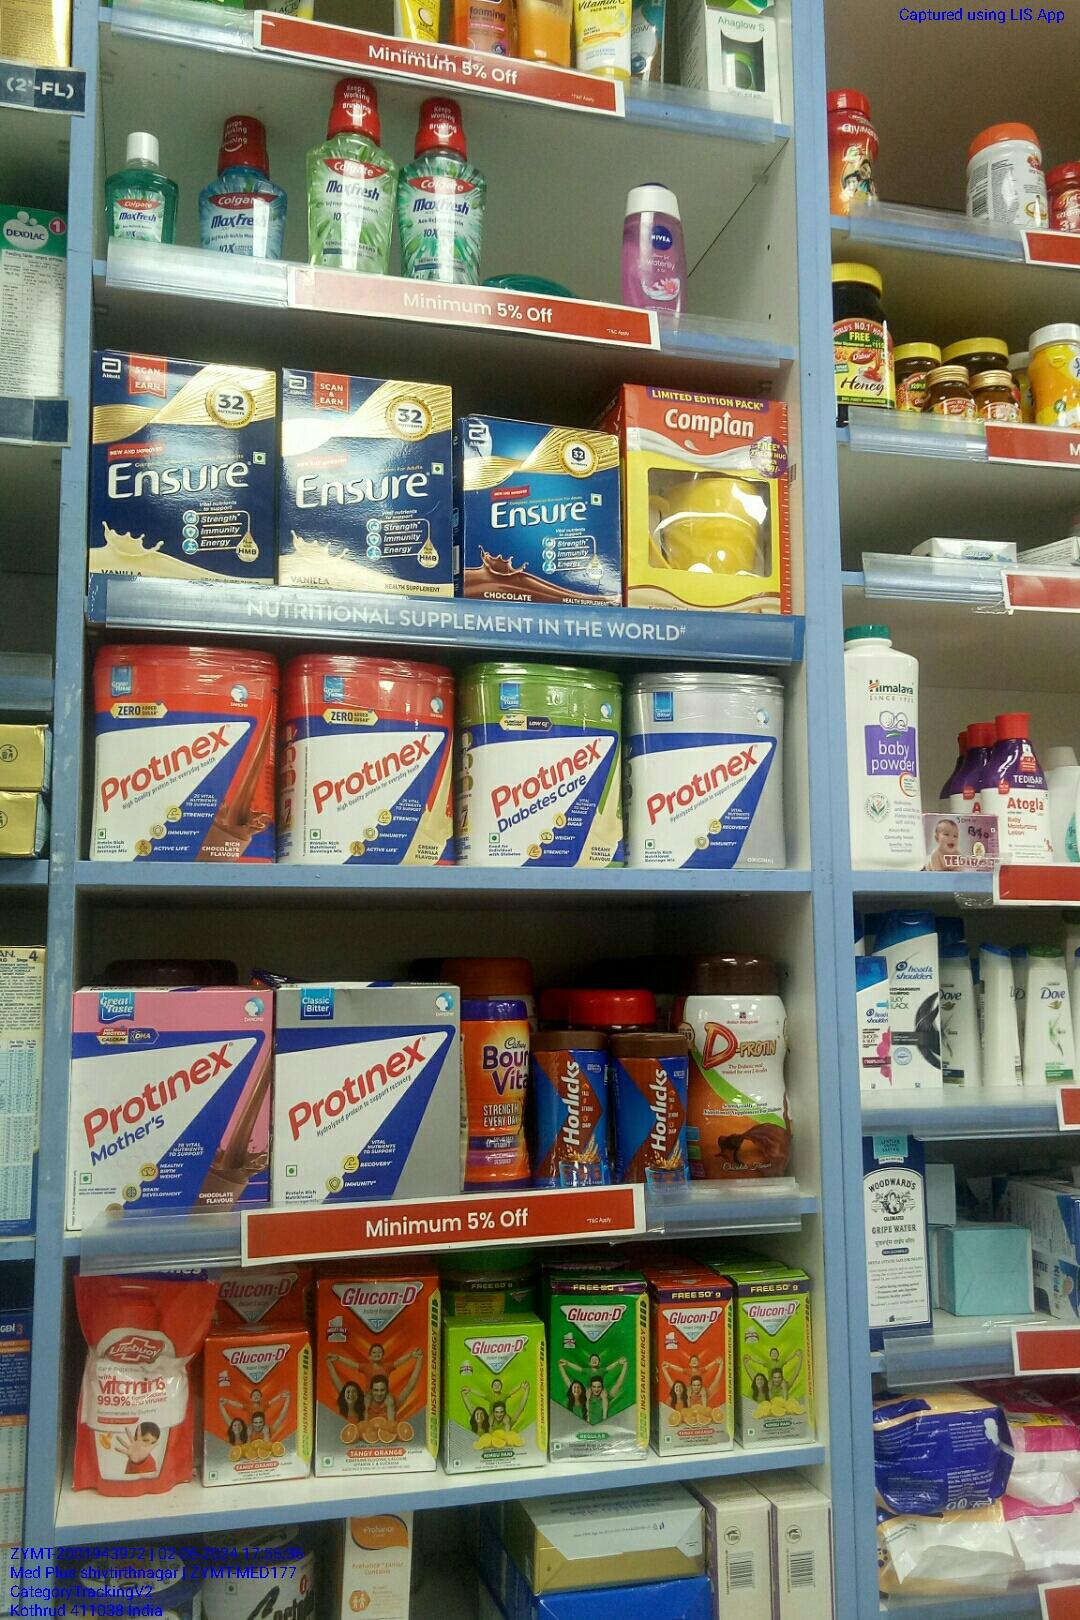BOURN_VITA_500_G_JAR: (466, 1003, 532, 1191)
ENSURE_VANILLA_400_G_PACK: (94, 351, 270, 582), (282, 375, 450, 594)
HORLICK_CHOCOLATE_200_G_JAR: (536, 1031, 611, 1184), (617, 1034, 689, 1186)
PROTINEX_CHOCOLATE_400_G_JAR: (89, 646, 269, 864)
PROTINEX_ORIGINAL_400_G_JAR: (634, 677, 785, 874)
PROTINEX_VANILLA_400_G_JAR: (281, 658, 456, 864)
